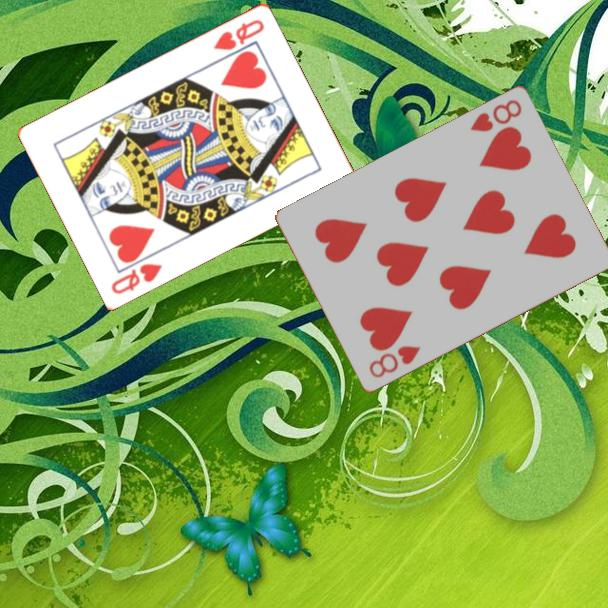h08: (466, 96, 525, 135), (365, 342, 423, 381)
h12: (210, 15, 267, 53), (107, 259, 165, 296)
